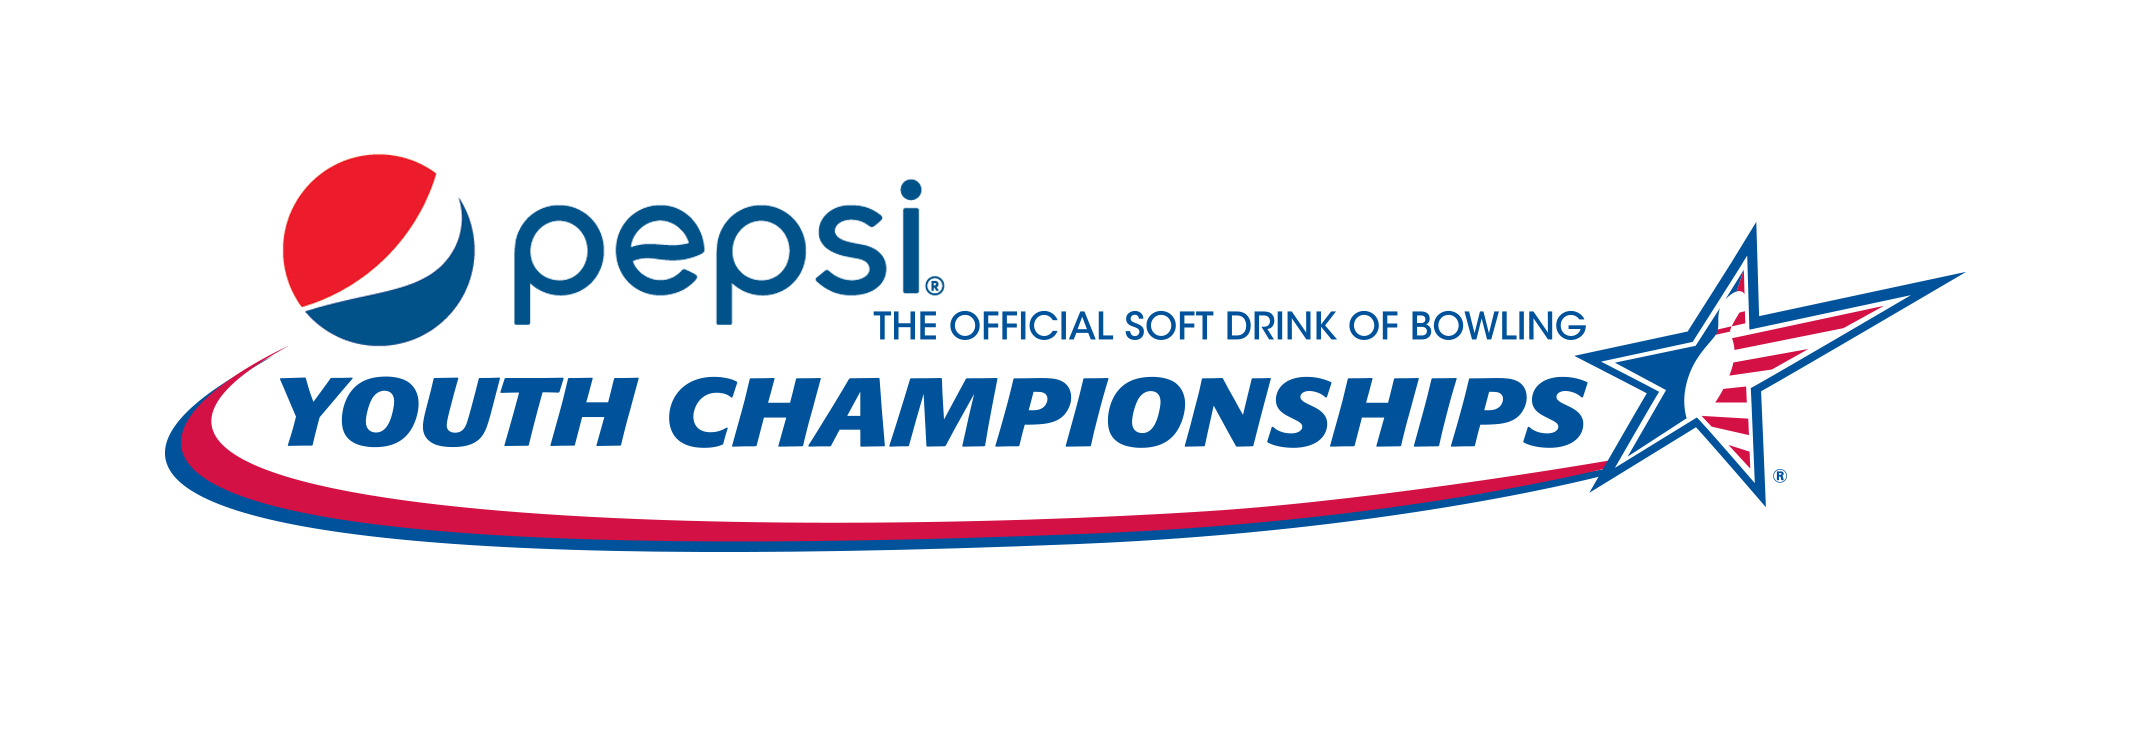pepsi: (281, 153, 479, 344)
